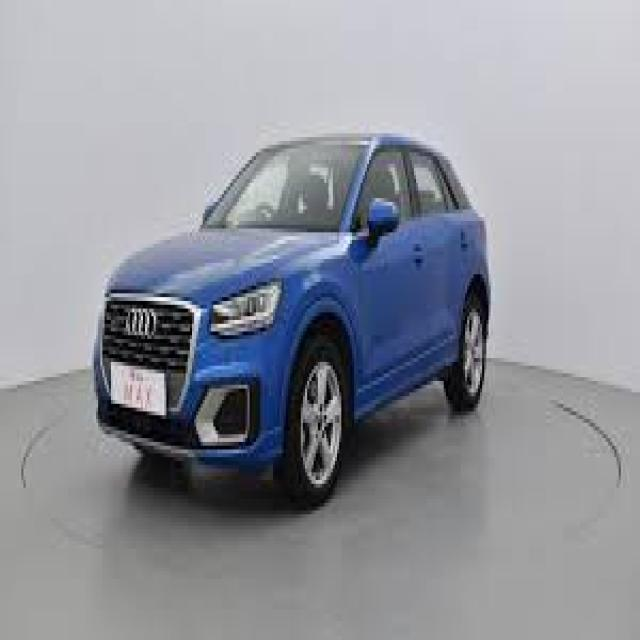SUV: (90, 124, 492, 502)
